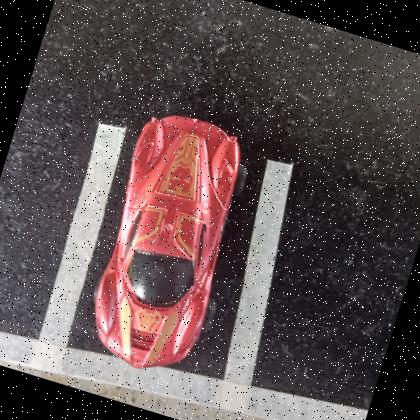Car: (93, 114, 242, 368)
